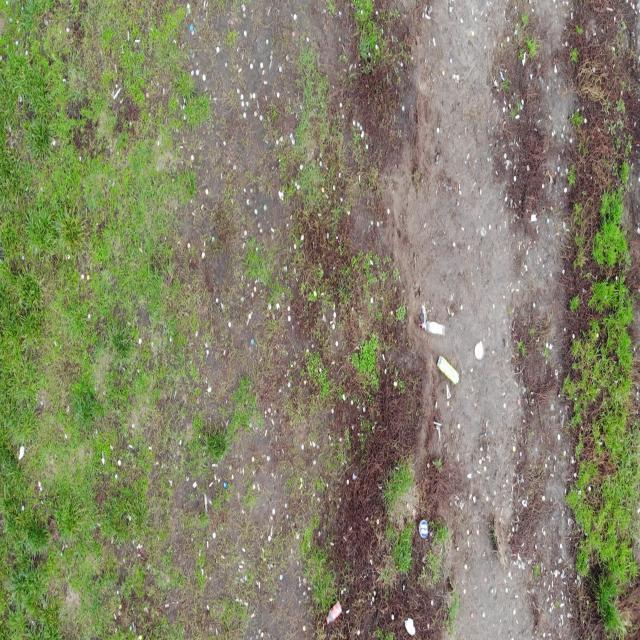rubbish: (437, 354, 460, 383), (420, 319, 446, 337), (326, 600, 342, 623), (404, 615, 415, 634), (418, 519, 429, 537), (474, 340, 484, 358)
